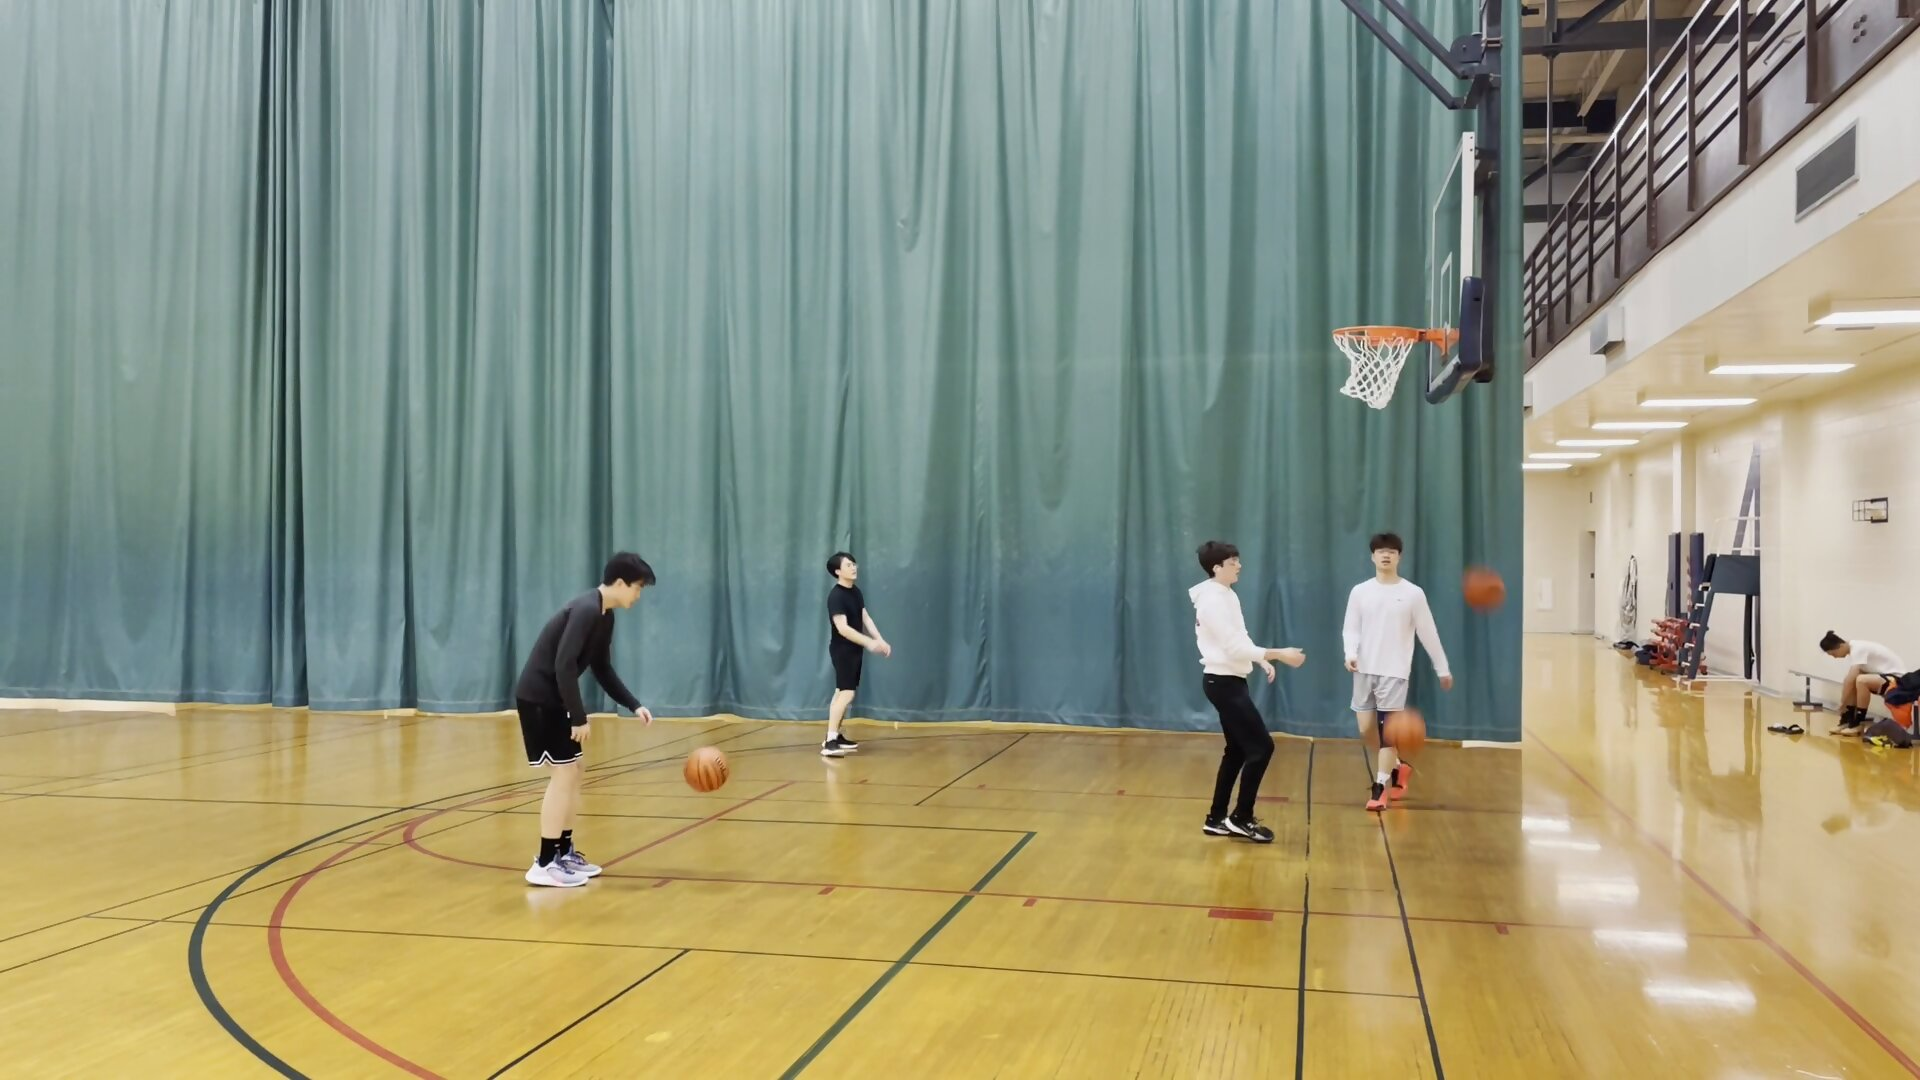ball: (1382, 705, 1430, 755), (681, 748, 730, 793), (1462, 568, 1508, 614)
net: (1330, 379, 1405, 417)
player: (503, 550, 654, 886), (1186, 539, 1301, 843), (1343, 531, 1443, 811), (815, 551, 889, 762), (1817, 627, 1902, 745)
rim: (1329, 317, 1422, 346)
